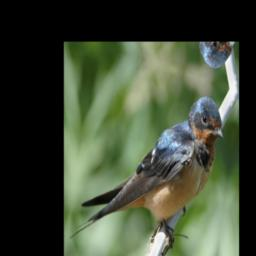Swallow: (68, 56, 230, 256)
